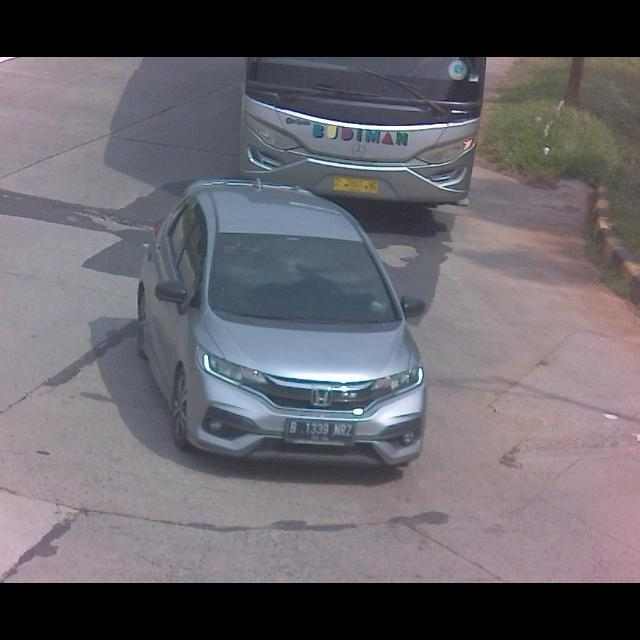plate: (285, 417, 353, 445)
